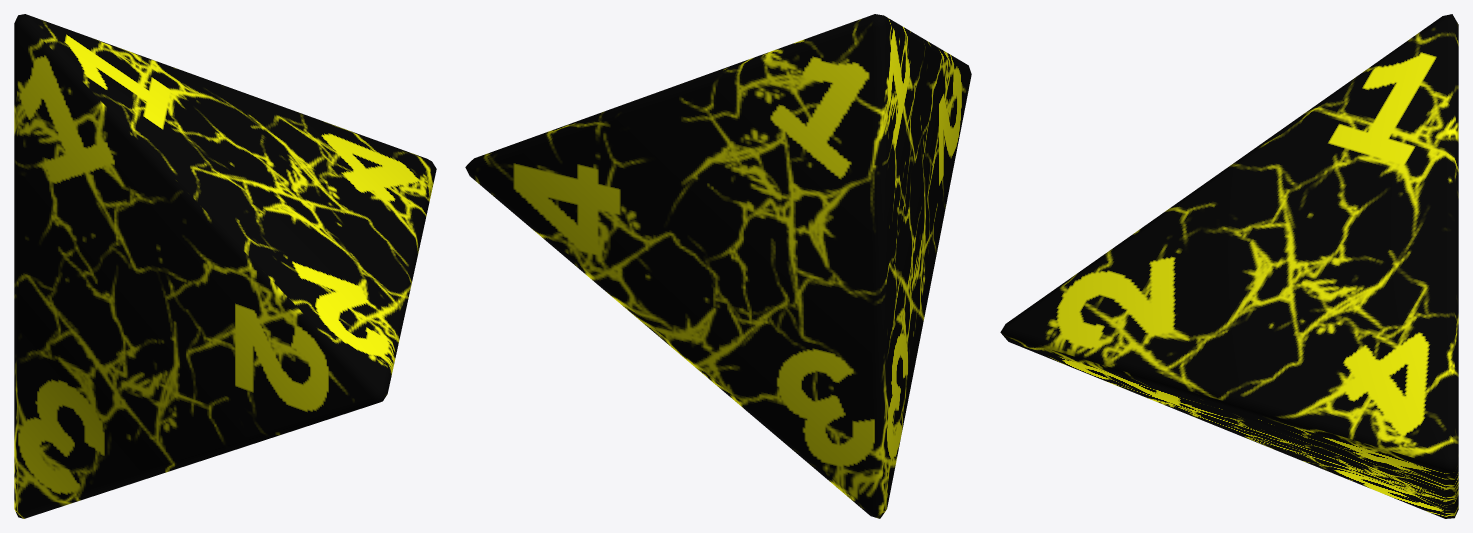
3 views of the same model, side by side, from view 1: azimuth 30°, elevation 25°; view 2: azimuth 150°, elevation 25°; view 3: azimuth 270°, elevation 25° (orthographic).
Parts seen in each view (by area): view 1: 4Yellow_4Yellow_0; view 2: 4Yellow_4Yellow_0; view 3: 4Yellow_4Yellow_0.
Part boxes in pixels (x1,y1,x2,y2): 4Yellow_4Yellow_0: (14, 14, 436, 518); 4Yellow_4Yellow_0: (465, 14, 971, 518); 4Yellow_4Yellow_0: (1000, 14, 1458, 518).
Size of the model in its own units: 1.35 by 1.55 by 1.28.
Materials: 1 (1 with a texture image).
